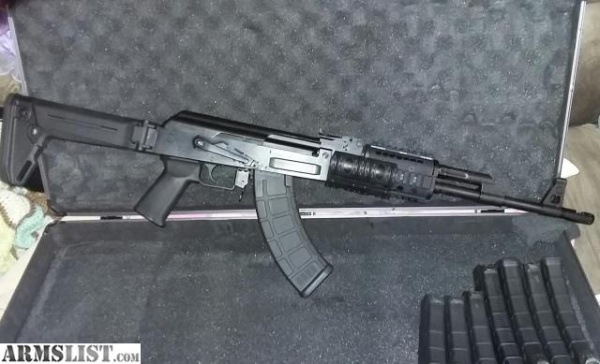ak47: (4, 94, 593, 293)
